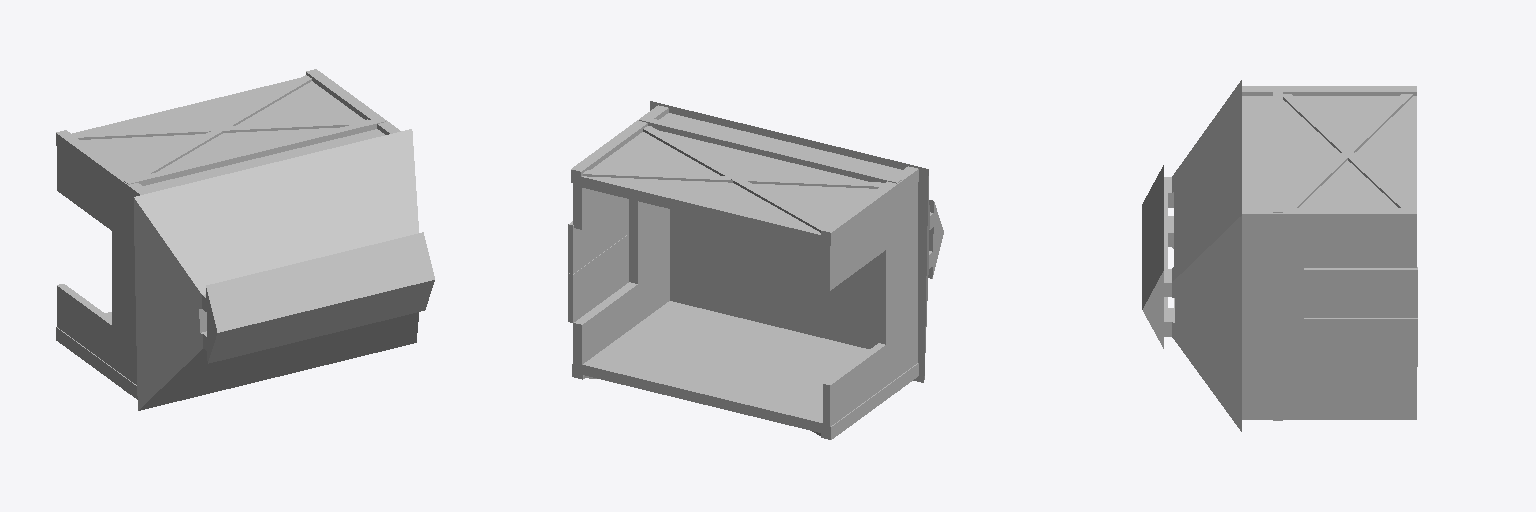
File: barn.obj
3 views of the same model, side by side, from view 1: azimuth 30°, elevation 25°; view 2: azimuth 150°, elevation 25°; view 3: azimuth 270°, elevation 25° (orthographic).
Visible parts, largest first — view 1: roof, Object01, brace01, brace08, brace03, brace04, brace09, brace07; view 2: Object01, roof, door01, brace01, door, brace08, brace04, brace03, brace07, brace09; view 3: Object01, roof, door, door01, brace09, brace06, brace08, brace03, brace04, brace01.
Boxes of the visible parts, x1=… form: roof: x1=134, y1=129, x2=434, y2=410; Object01: x1=57, y1=77, x2=384, y2=384; brace01: x1=124, y1=118, x2=385, y2=185; brace08: x1=56, y1=130, x2=151, y2=202; brace03: x1=73, y1=119, x2=368, y2=139; brace04: x1=131, y1=75, x2=311, y2=177; brace09: x1=306, y1=69, x2=400, y2=134; brace07: x1=56, y1=327, x2=137, y2=399; Object01: x1=573, y1=113, x2=917, y2=433; roof: x1=650, y1=101, x2=943, y2=382; door01: x1=568, y1=234, x2=628, y2=322; brace01: x1=639, y1=116, x2=901, y2=183; door: x1=568, y1=198, x2=628, y2=273; brace08: x1=821, y1=166, x2=918, y2=245; brace04: x1=583, y1=170, x2=884, y2=188; brace03: x1=643, y1=126, x2=825, y2=232; brace07: x1=821, y1=363, x2=918, y2=439; brace09: x1=571, y1=105, x2=668, y2=182; Object01: x1=1242, y1=96, x2=1416, y2=406; roof: x1=1142, y1=80, x2=1241, y2=431; door: x1=1304, y1=267, x2=1417, y2=317; door01: x1=1304, y1=318, x2=1417, y2=366; brace09: x1=1242, y1=208, x2=1416, y2=226; brace06: x1=1242, y1=407, x2=1416, y2=419; brace08: x1=1242, y1=86, x2=1416, y2=95; brace03: x1=1285, y1=94, x2=1412, y2=207; brace04: x1=1283, y1=94, x2=1411, y2=207; brace01: x1=1273, y1=86, x2=1282, y2=212.
Bounding box in the file's own units: 372 × 270 × 313.